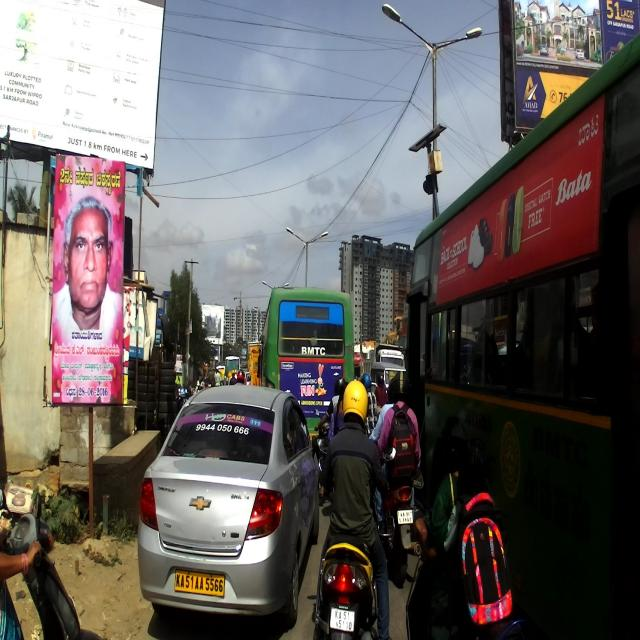bus: (401, 39, 639, 639), (254, 286, 355, 442)
car: (140, 381, 312, 622)
scooter: (311, 438, 389, 640)
